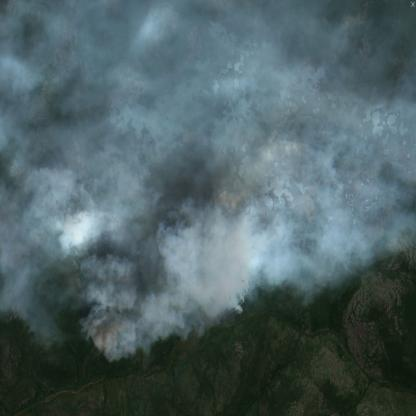fire: (234, 118, 319, 316), (86, 202, 164, 341)
